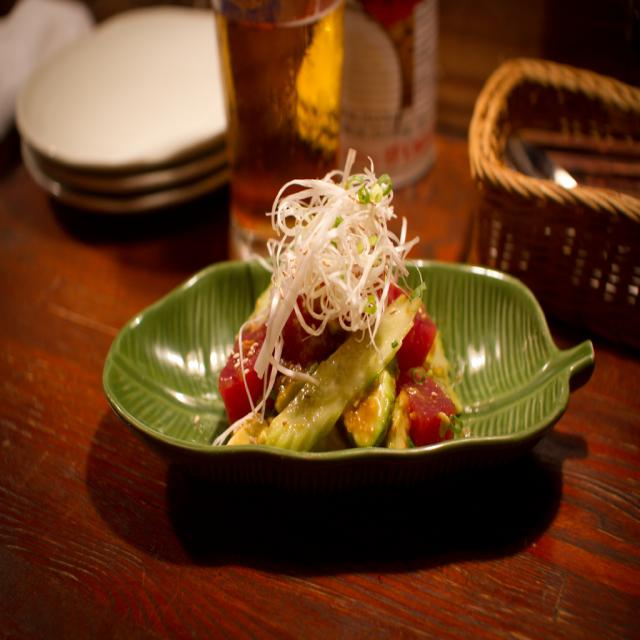non-organic waste: (26, 17, 255, 212)
